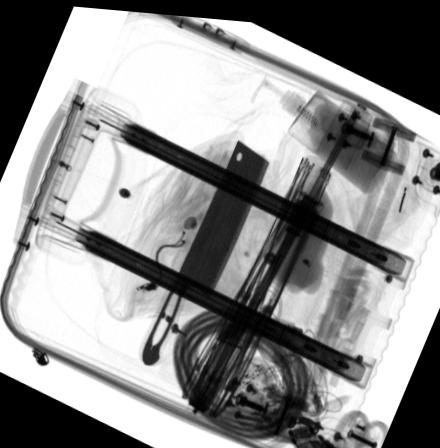Knife: (141, 134, 270, 363)
